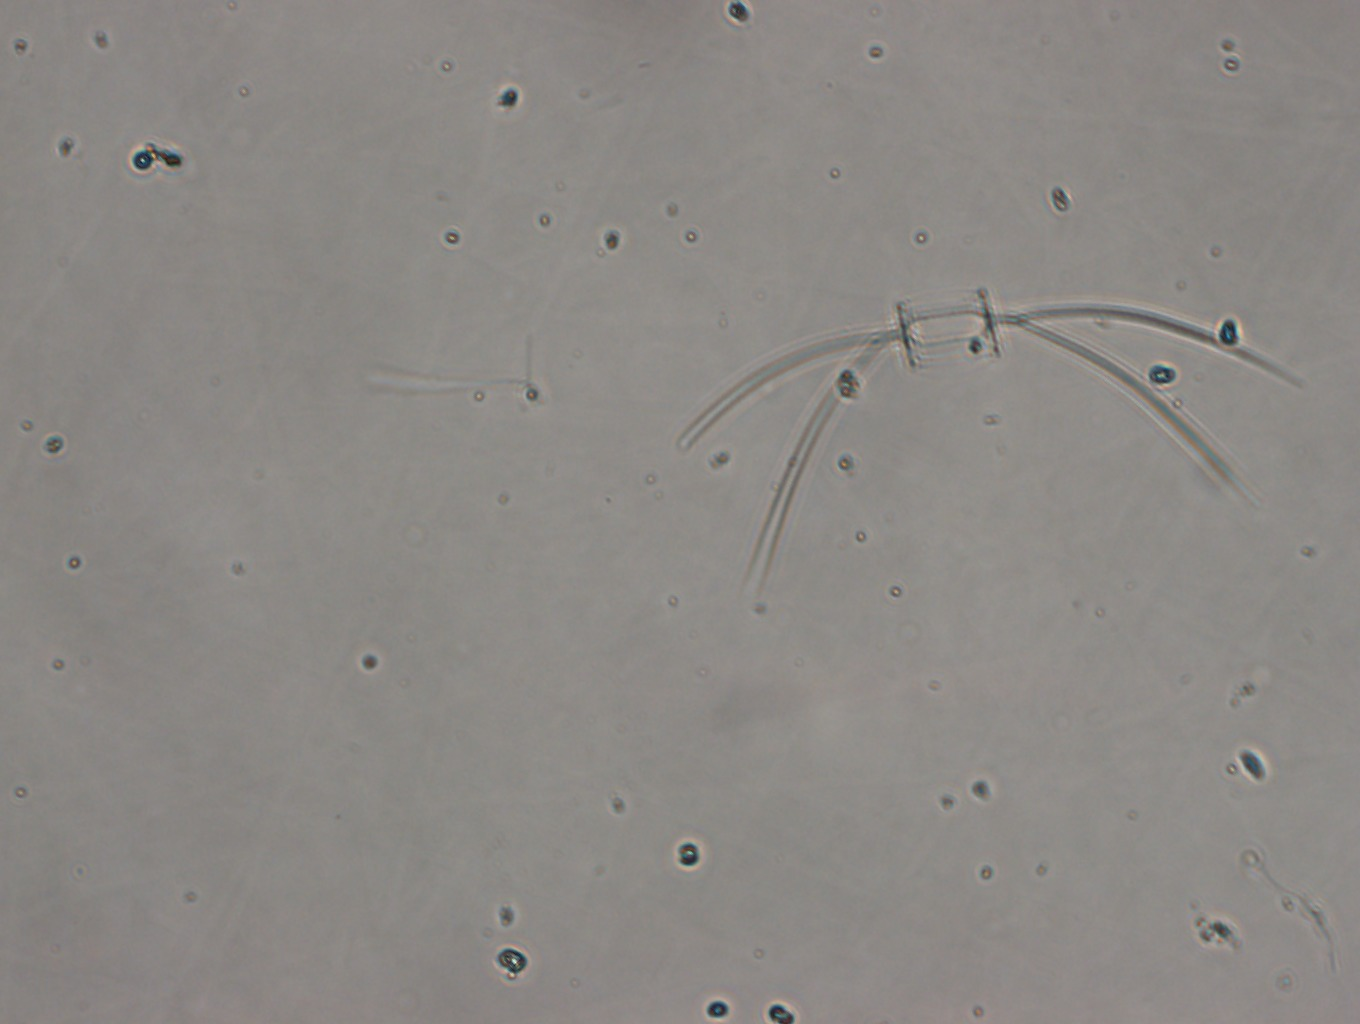chaetoceros: (676, 284, 1309, 613)
